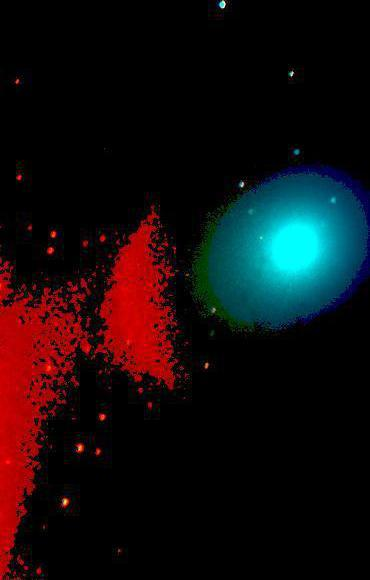star: (246, 225, 276, 255)
